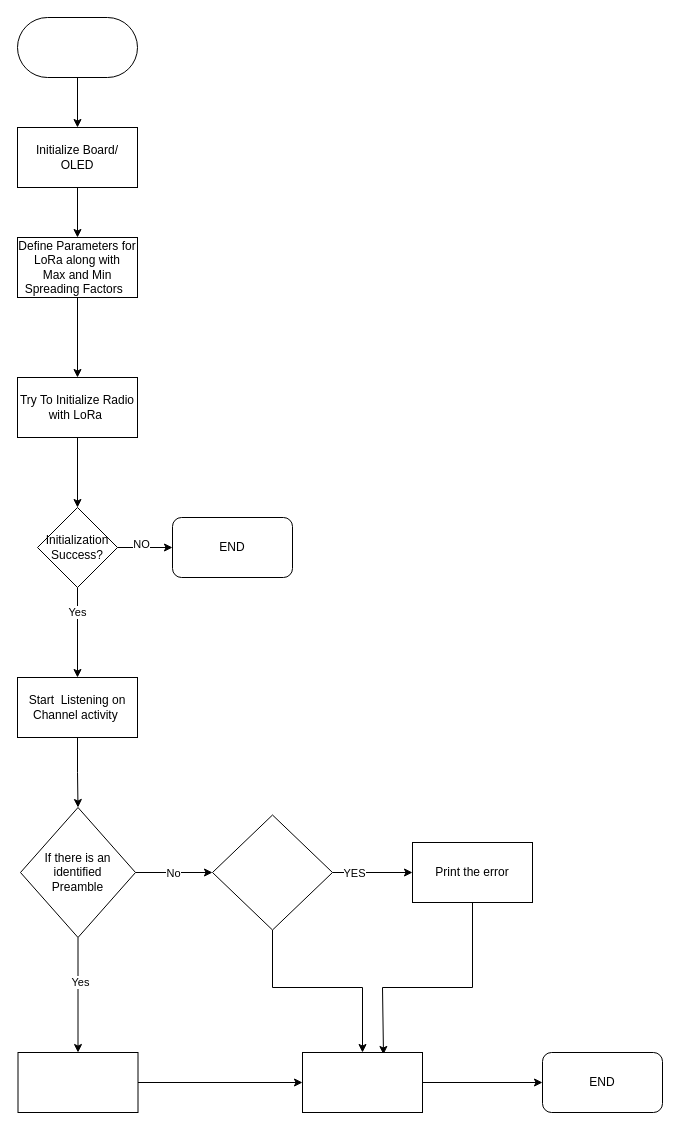
Some shapes in this 680 by 1130 pixel diagram are drawn without their labels. The centre of each missing label's shape, as x and y in pixels:
"Change the SF on a given Range and given weight." goes at pixel 362 1082.
"If there is an error in CAD process" goes at pixel 272 872.
"Start" goes at pixel 77 47.
"Start reception process." goes at pixel 77 1082.
